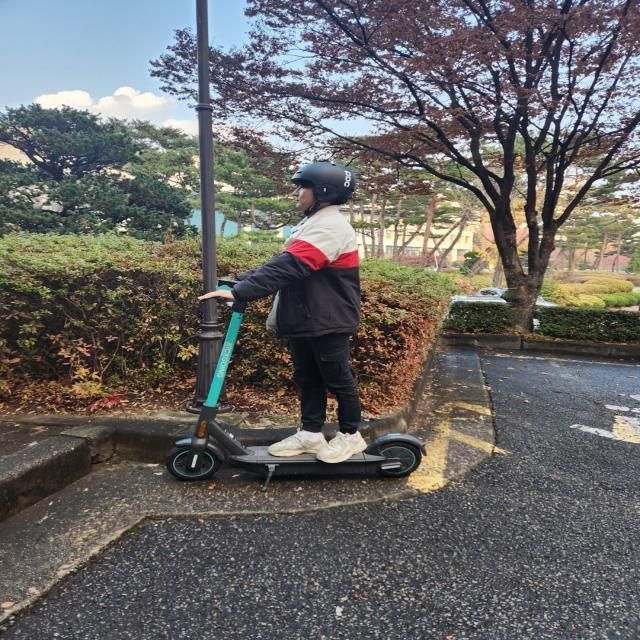Helmet: (282, 154, 361, 220)
